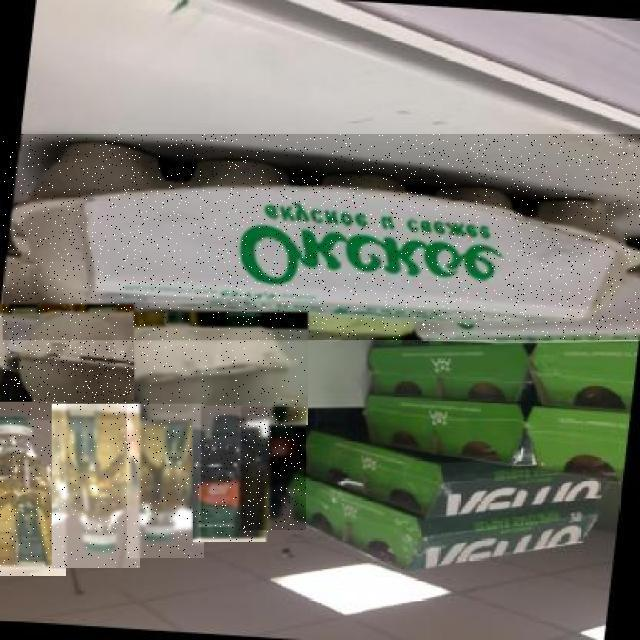Eggs: (3, 135, 640, 341), (124, 312, 308, 425), (0, 305, 134, 421), (52, 404, 140, 568), (127, 404, 204, 558), (0, 402, 66, 576), (194, 407, 270, 543), (243, 407, 306, 530)
